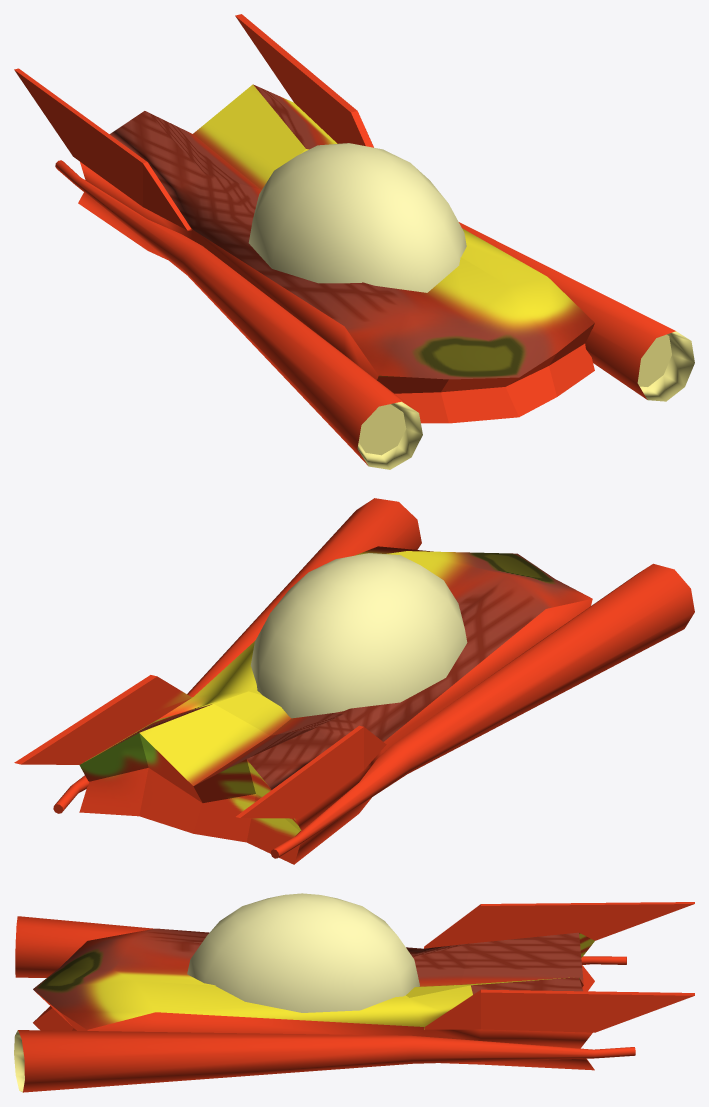
File: Podjet.gltf
3 renders of one model, top to bottom at view 1: azimuth 30°, elevation 25°; view 2: azimuth 150°, elevation 25°; view 3: azimuth 270°, elevation 25°, orthographic. The views are drawn at different scales.
Visible parts, largest first — view 1: Cube, Sphere, Cylinder, Cylinder.001; view 2: Cube, Sphere, Cylinder, Cylinder.001; view 3: Cube, Cylinder.001, Sphere, Cylinder.
Part boxes in pixels (left/top/right/bottom): Cube: left=14, top=14, right=594, bottom=423; Sphere: left=248, top=143, right=466, bottom=292; Cylinder: left=55, top=160, right=422, bottom=469; Cylinder.001: left=459, top=222, right=694, bottom=401; Cube: left=14, top=546, right=592, bottom=864; Sphere: left=250, top=553, right=467, bottom=718; Cylinder: left=270, top=563, right=694, bottom=858; Cylinder.001: left=53, top=498, right=421, bottom=813; Cube: left=33, top=902, right=694, bottom=1070; Cylinder.001: left=14, top=1030, right=635, bottom=1092; Sphere: left=187, top=893, right=419, bottom=1012; Cylinder: left=15, top=916, right=626, bottom=977.
Size of the model in its own units: 7.87 by 3.5 by 16.11.
4 materials, 4 textured.
